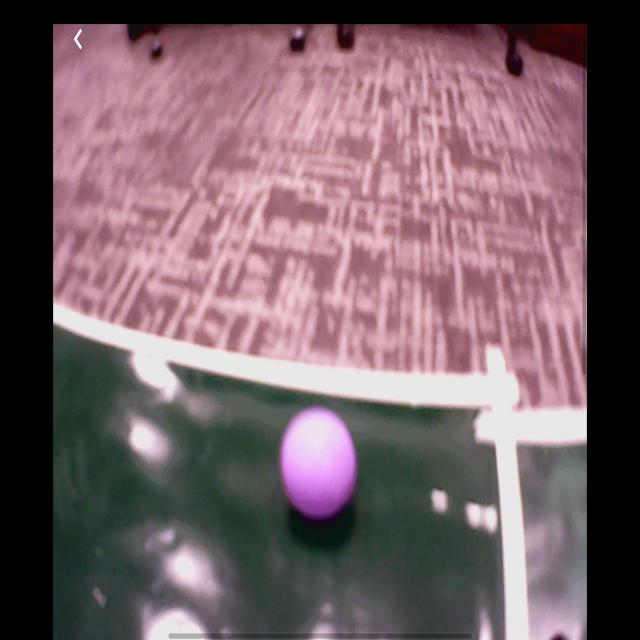ball: (279, 407, 358, 522)
